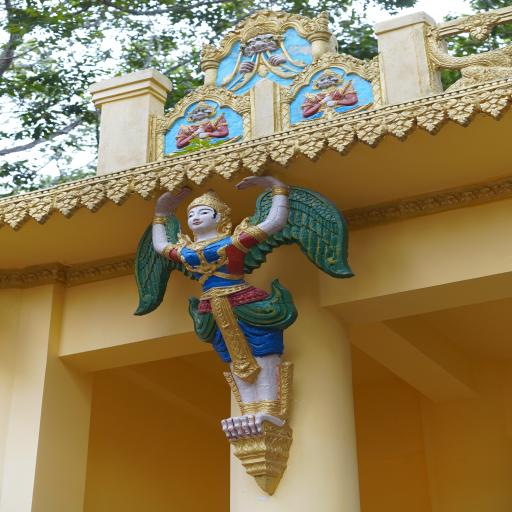la: (383, 112, 423, 141), (412, 106, 450, 134), (76, 186, 115, 213), (209, 156, 245, 182), (237, 149, 273, 175), (352, 122, 391, 146), (182, 161, 216, 187), (154, 168, 190, 192), (479, 94, 512, 120), (298, 134, 328, 162), (102, 179, 133, 206), (53, 194, 85, 220), (1, 204, 30, 232), (325, 129, 355, 156), (446, 101, 478, 126), (268, 143, 301, 167), (130, 175, 160, 200), (25, 201, 55, 225), (482, 94, 482, 100)
than: (136, 180, 357, 440), (298, 66, 368, 124), (229, 32, 305, 82), (174, 100, 244, 145)
